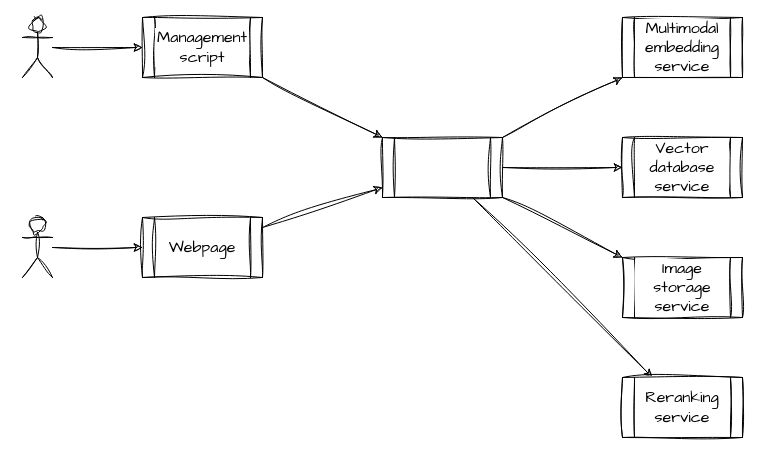
Some shapes in this 760 by 455 pixel diagram are drawn without their labels. The shapes that lost their labels are listed below. From the top down, each one's box as (x1, y1, x2, y2) in pixels, then its label:
(22, 16, 52, 78): Admin
(382, 136, 502, 198): Orchestrator
(22, 216, 52, 278): User
